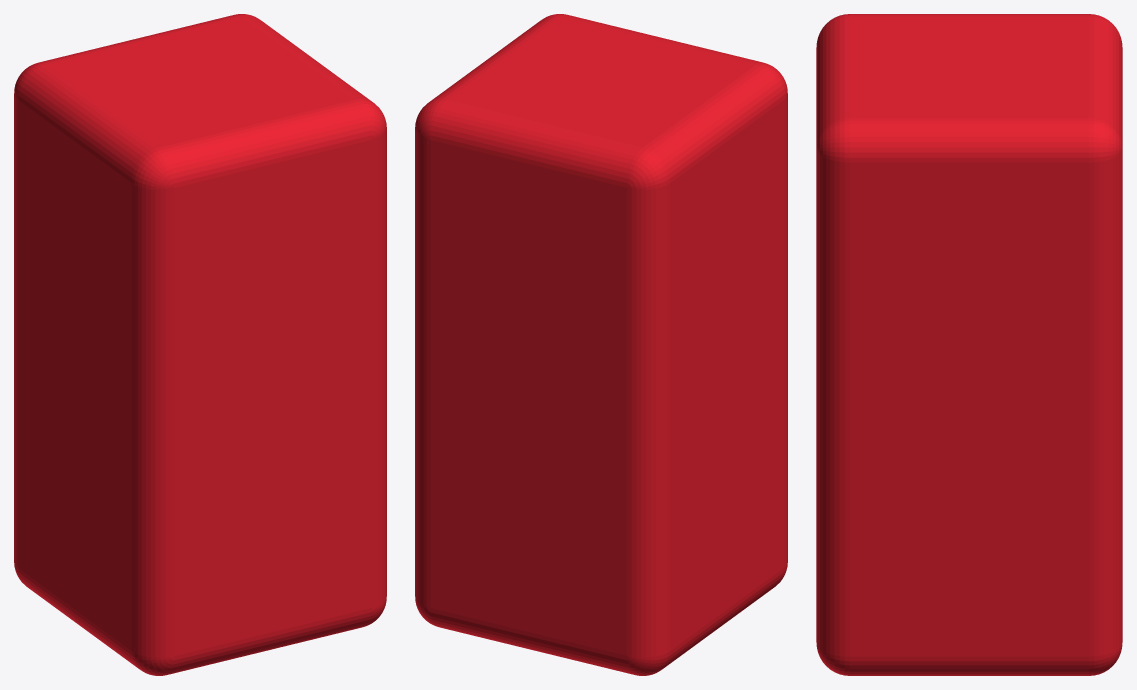
The model's file is Brick.obj.
3 views of the same model, side by side, from view 1: azimuth 30°, elevation 25°; view 2: azimuth 150°, elevation 25°; view 3: azimuth 270°, elevation 25° (orthographic). The views are drawn at different scales.
Visible parts, largest first — view 1: obj_0; view 2: obj_0; view 3: obj_0.
Boxes of the visible parts, x1=… form: obj_0: x1=14, y1=14, x2=386, y2=675; obj_0: x1=415, y1=14, x2=787, y2=675; obj_0: x1=816, y1=14, x2=1122, y2=675.
Size of the model in its own units: 20 by 40 by 20.
